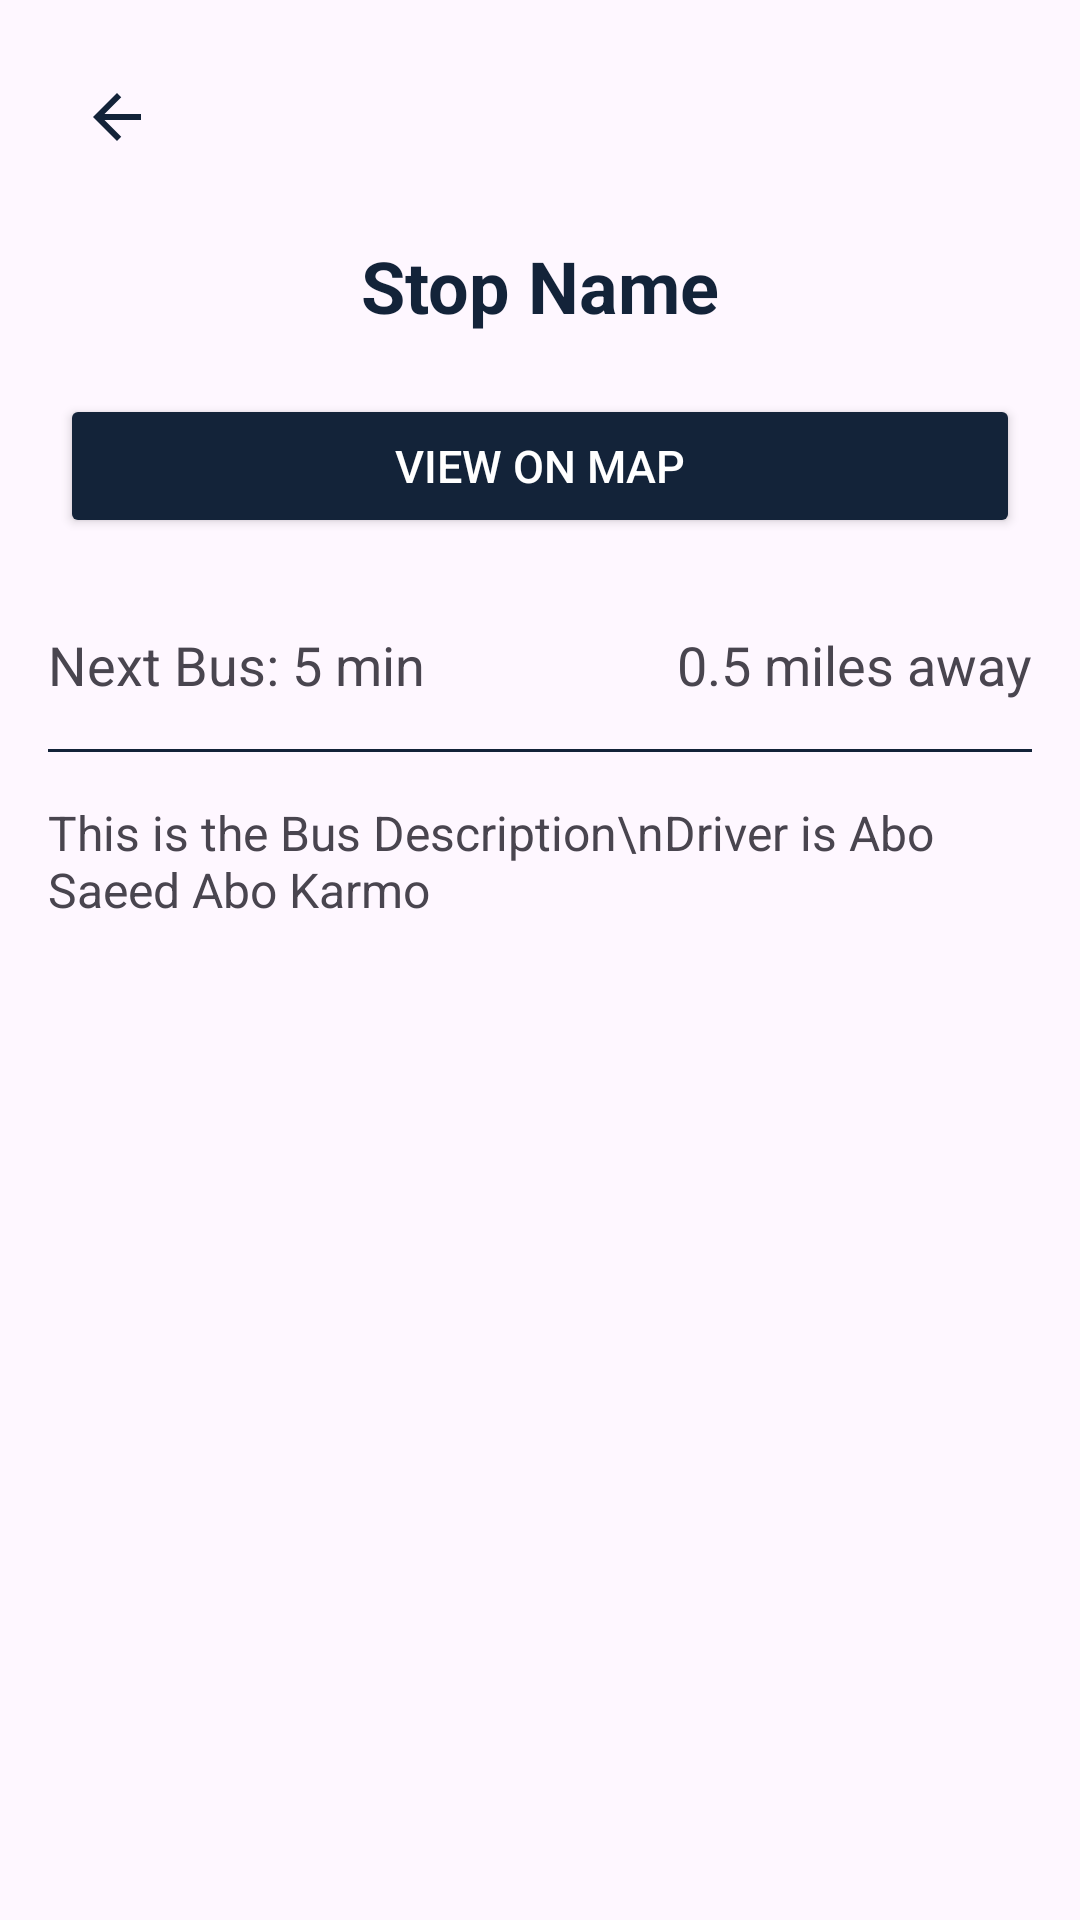

Icon click points for this 1080 × 1920 phone screenshot, format [x,y]:
Back: [117,117]
